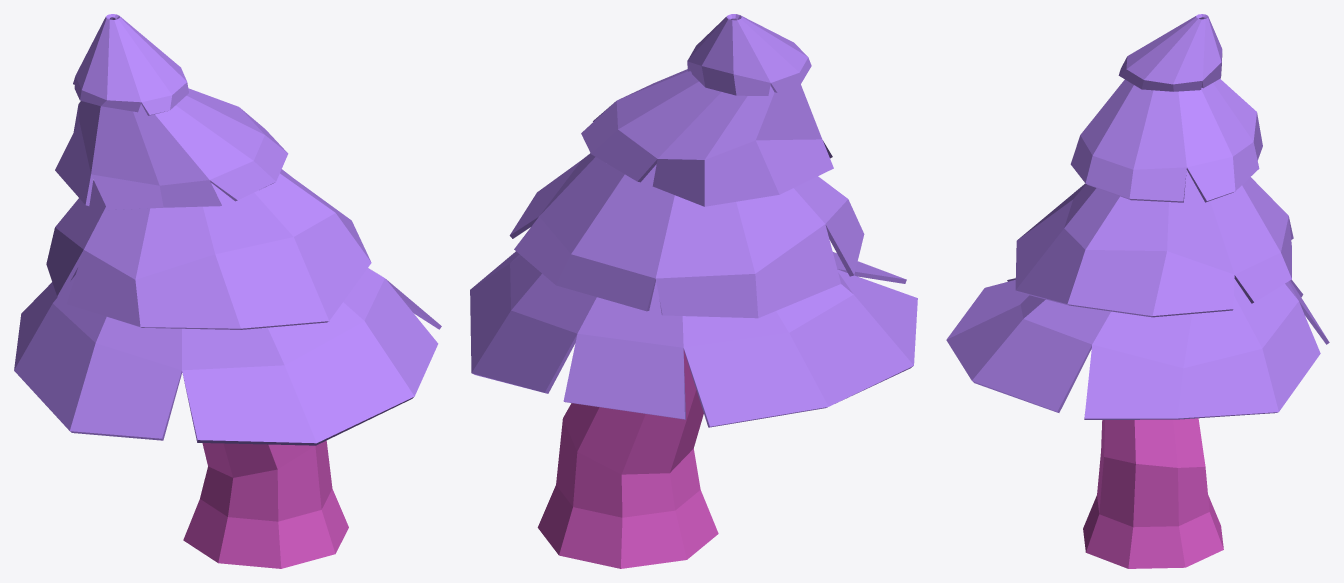
File: ENV_bluedefaulttree_color.fbx
The picture shows the model from 3 angles, left to right: view 1: azimuth 30°, elevation 25°; view 2: azimuth 150°, elevation 25°; view 3: azimuth 270°, elevation 25°; orthographic projection. The views are drawn at different scales.
Visible parts, largest first — view 1: tree; view 2: tree; view 3: tree.
Part boxes in pixels (left/top/right/bottom): tree: left=14, top=14, right=441, bottom=568; tree: left=470, top=14, right=917, bottom=568; tree: left=946, top=14, right=1329, bottom=568.
Bounding box in the file's own units: 569 × 559 × 766.
